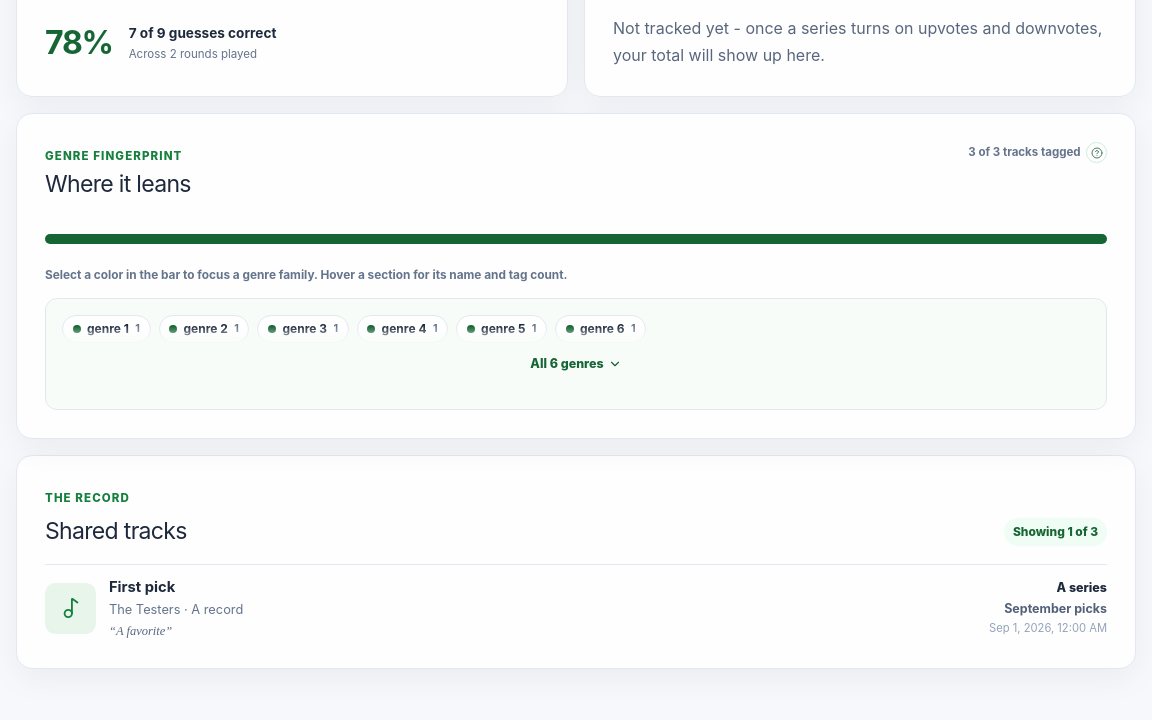
Scenario: ProfilePage › keeps a long fingerprint to five rows until the disclosure is opened
This screenshot has width=1152, height=720.
(page scrolled)
Step 1. Click the button "All 6 genres" → (576, 360), box 530,347 -> 622,373
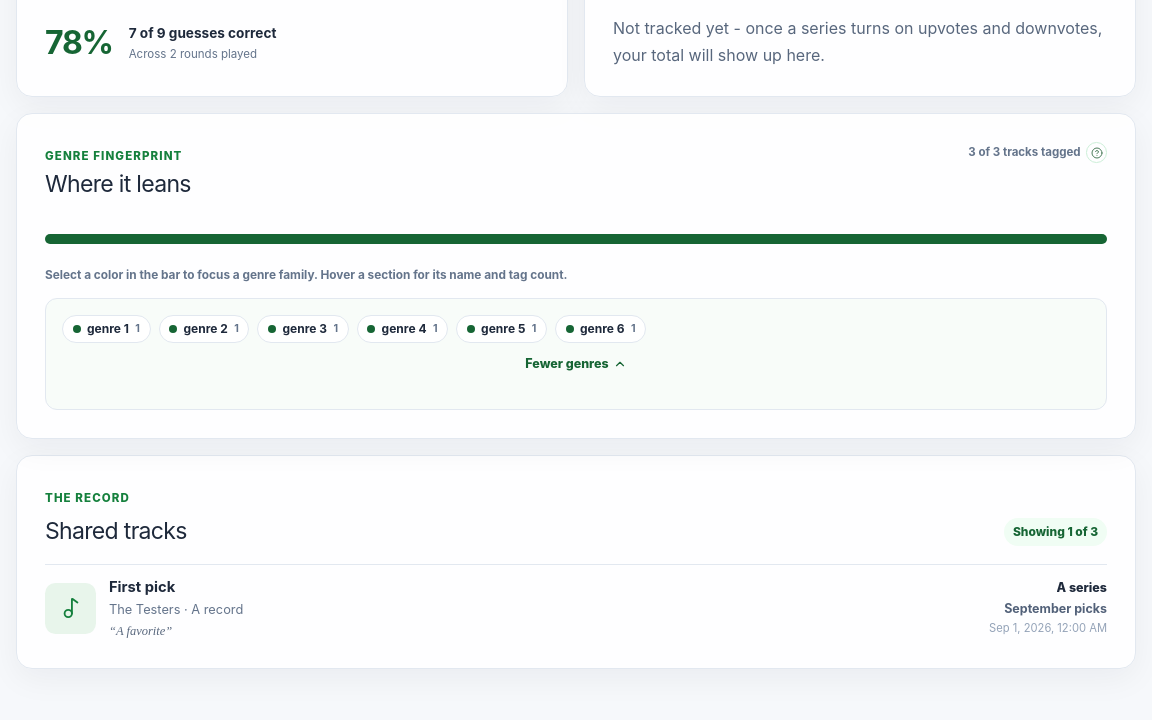
Expected: the button named "All 6 genres" reads "Fewer genres", 525,347 -> 627,373
Expected: the button named "All 6 genres" is expanded, 525,347 -> 627,373
